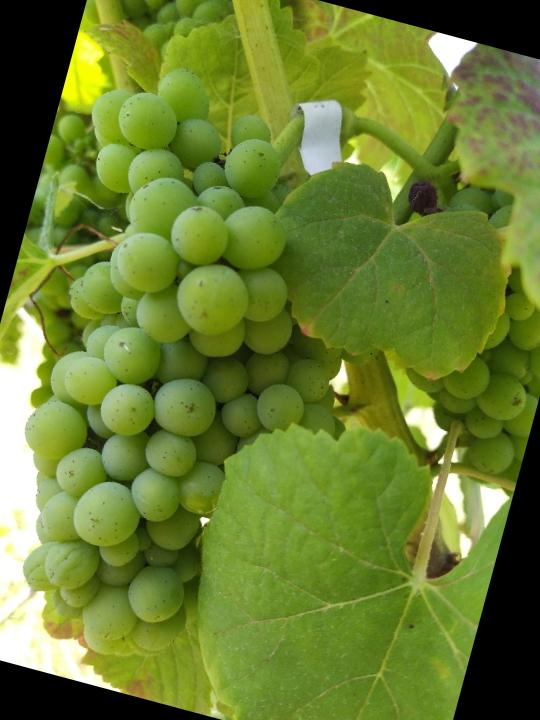grape: (0, 45, 435, 710)
